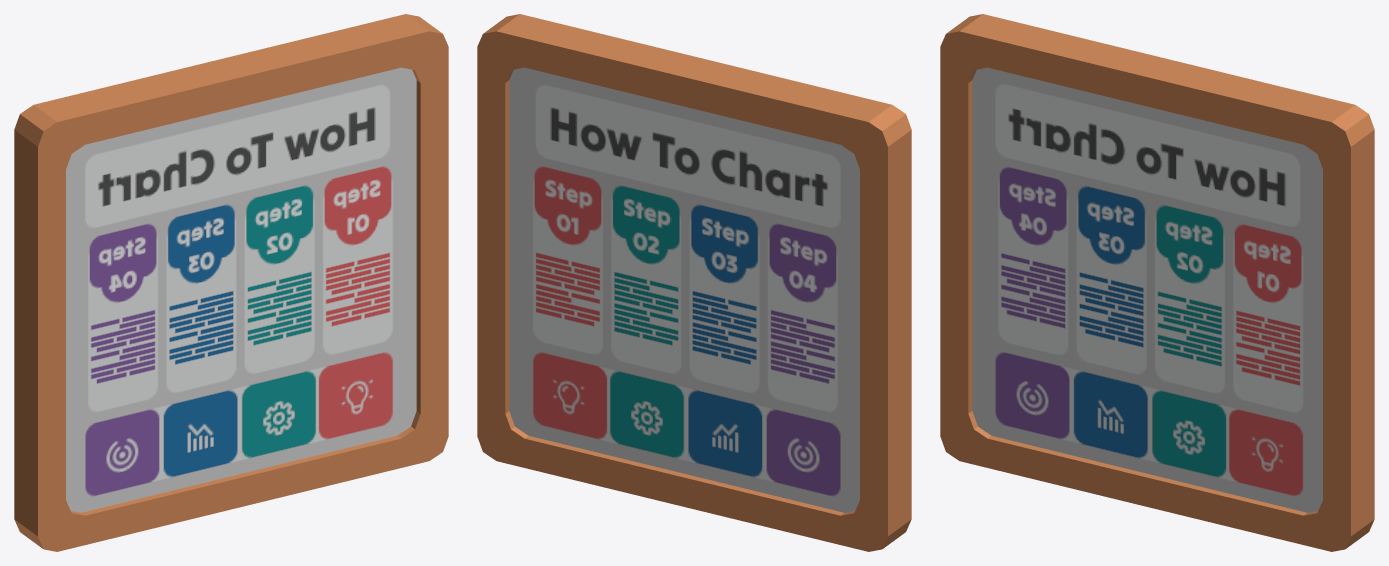
The model's file is Props_Poster_05.fbx.
3 renders of one model, left to right at view 1: azimuth 30°, elevation 25°; view 2: azimuth 150°, elevation 25°; view 3: azimuth 330°, elevation 25°, orthographic.
Visible parts, largest first — view 1: Props_Poster_05; view 2: Props_Poster_05; view 3: Props_Poster_05.
Boxes of the visible parts, <box> form: Props_Poster_05: <box>14,14,448,551</box>; Props_Poster_05: <box>477,14,911,551</box>; Props_Poster_05: <box>940,14,1374,551</box>.
Size of the model in its own units: 100 by 100 by 10.
